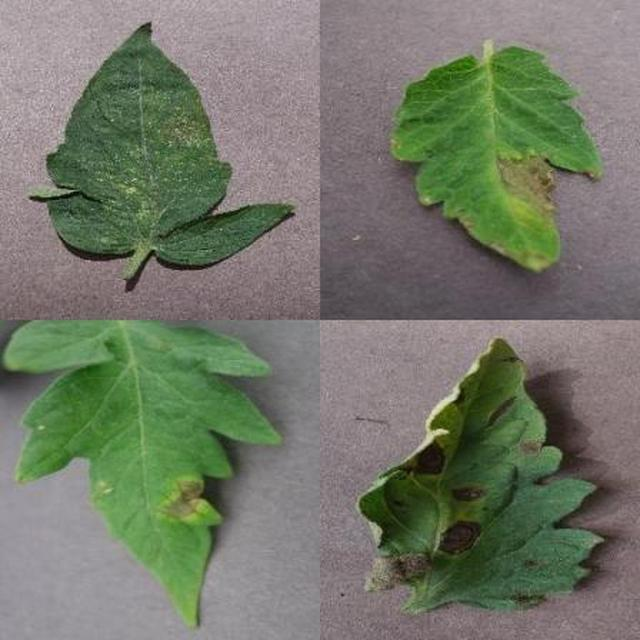Spider Mites Leaf: (205, 205, 640, 640)
